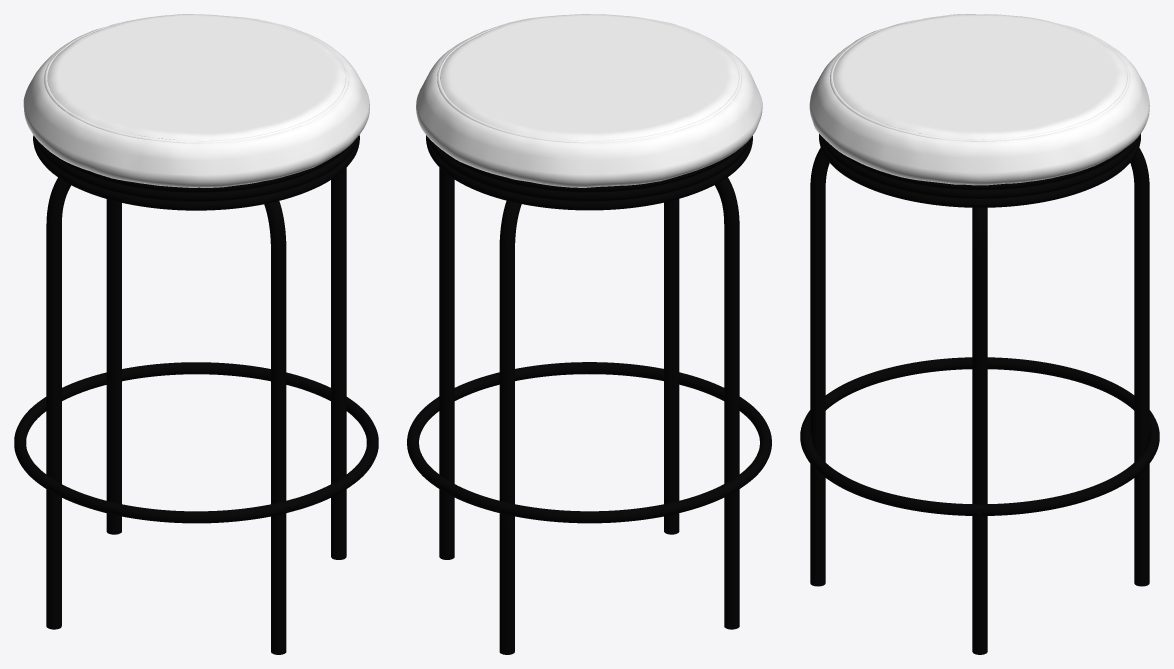
The model's file is SM_Stool_01a.fbx.
3 renders of one model, left to right at view 1: azimuth 30°, elevation 25°; view 2: azimuth 150°, elevation 25°; view 3: azimuth 270°, elevation 25°, orthographic.
Parts seen in each view (by area): view 1: SM_Stool_01a_LOD0; view 2: SM_Stool_01a_LOD0; view 3: SM_Stool_01a_LOD0.
Part boxes in pixels (x1,y1,x2,y2): SM_Stool_01a_LOD0: [14, 14, 378, 654]; SM_Stool_01a_LOD0: [407, 14, 771, 654]; SM_Stool_01a_LOD0: [800, 14, 1159, 654].
Size of the model in its own units: 51.08 by 51.09 by 80.
Materials: 1 (1 with a texture image).
